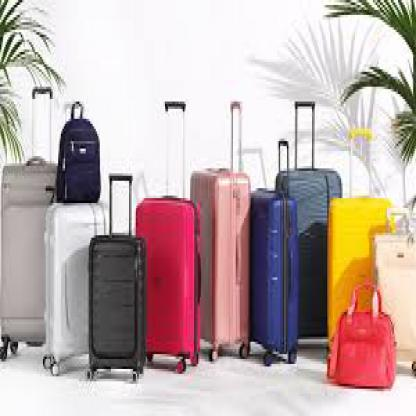maleta: (189, 158, 255, 369), (276, 161, 344, 352), (134, 188, 204, 367), (2, 154, 63, 359), (40, 193, 107, 379), (323, 174, 388, 362), (248, 173, 308, 371), (83, 225, 151, 384), (324, 282, 404, 399), (366, 215, 415, 379)
morral: (49, 89, 115, 216)
